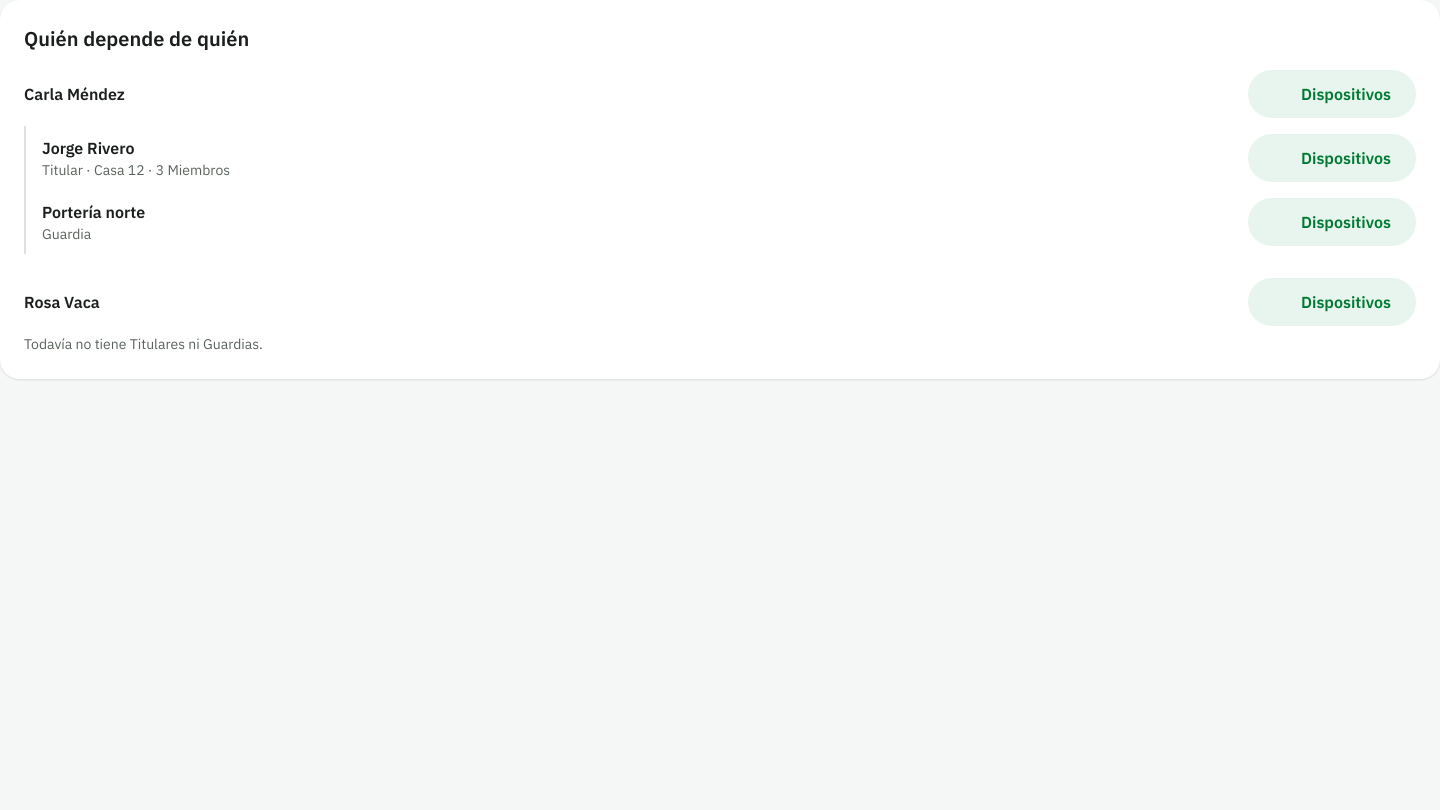
it: jerarquía de la cuenta: dispositivos de cada persona › con el permiso de ver sesiones, cada persona abre sus dispositivos conectados
Click the button with aria-label "Ver los dispositivos conectados de Jorge Rivero" at (1332, 158), box [1248,134,1416,182]
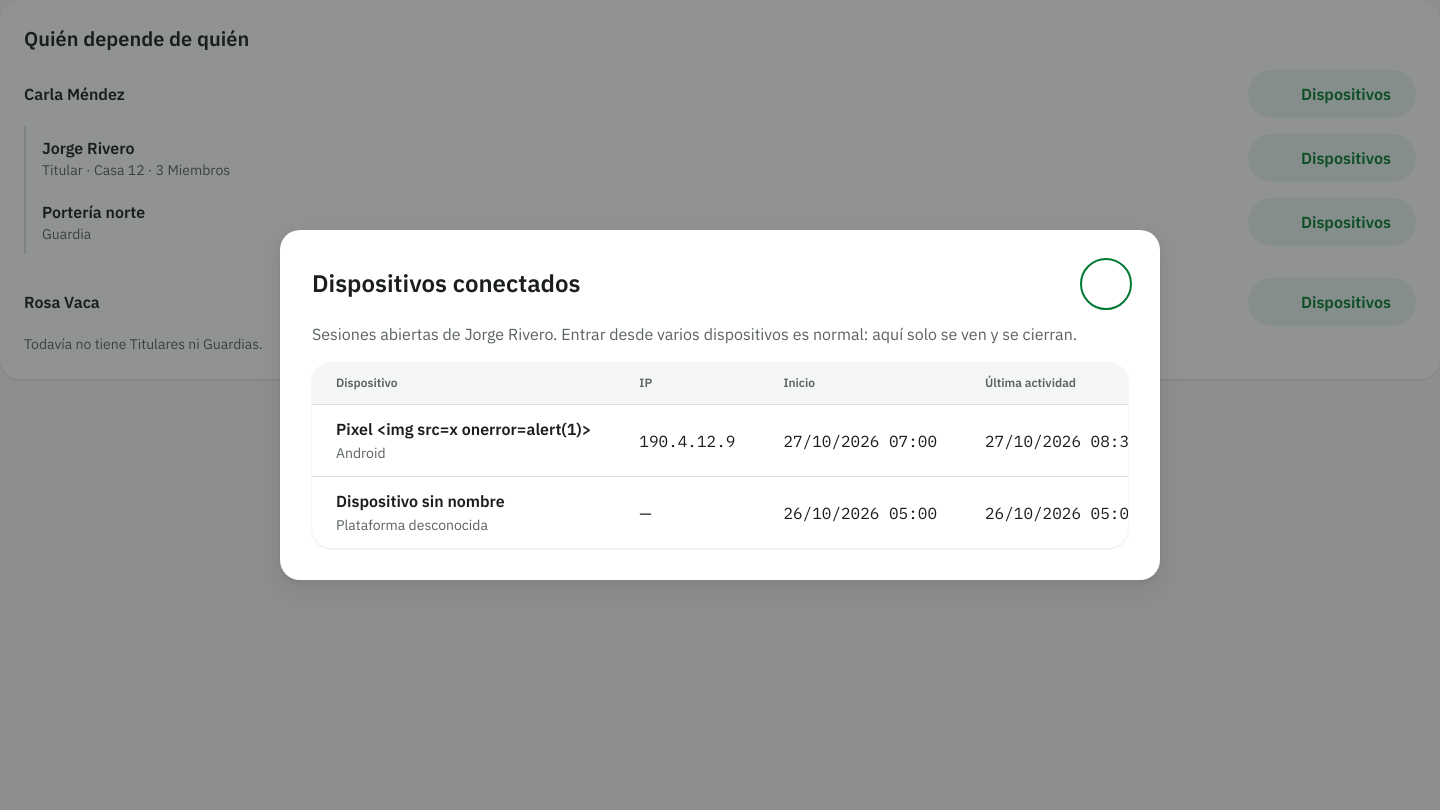
Check: the table named "Dispositivos conectados de Jorge Rivero" is shown, box [312,362,1128,548]
